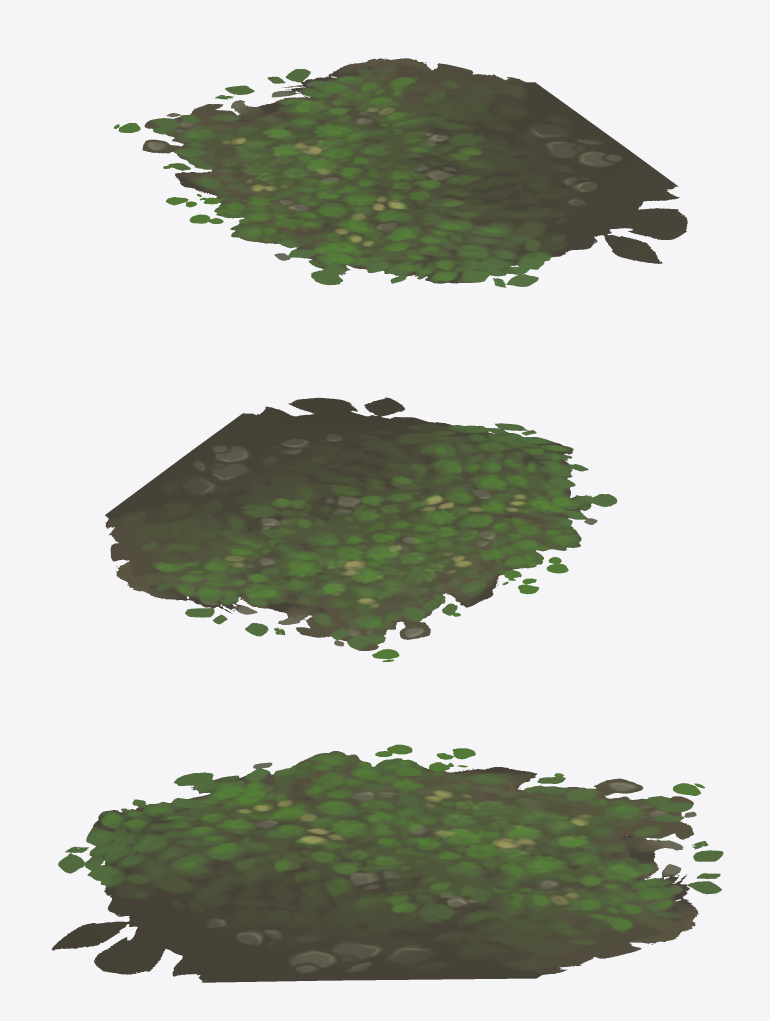
Rendered from moss_03.fbx.
3 renders of one model, top to bottom at view 1: azimuth 30°, elevation 25°; view 2: azimuth 150°, elevation 25°; view 3: azimuth 270°, elevation 25°, orthographic. The views are drawn at different scales.
Parts seen in each view (by area): view 1: moss3; view 2: moss3; view 3: moss3.
Part boxes in pixels (bbox=[...]): moss3: bbox=[114, 58, 687, 287]; moss3: bbox=[105, 397, 617, 661]; moss3: bbox=[52, 744, 723, 982].
Bounding box in the file's own units: 1.25 × 0.0745 × 1.55.
